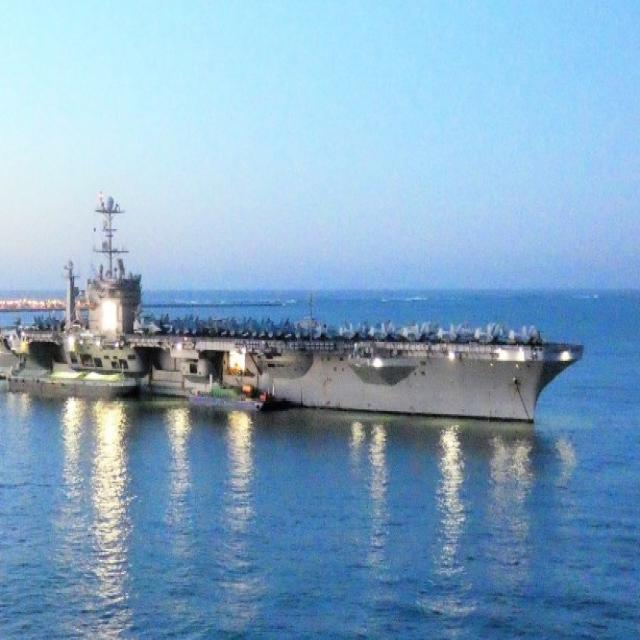Portanaves: (1, 188, 590, 423)
